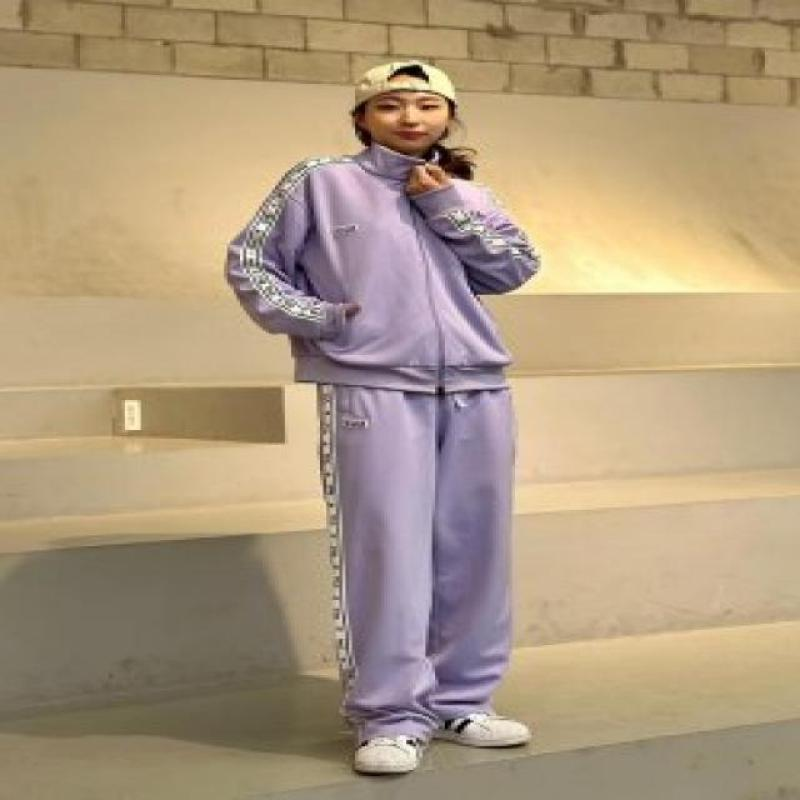jacket: (224, 139, 543, 396)
trousers: (315, 380, 519, 747)
